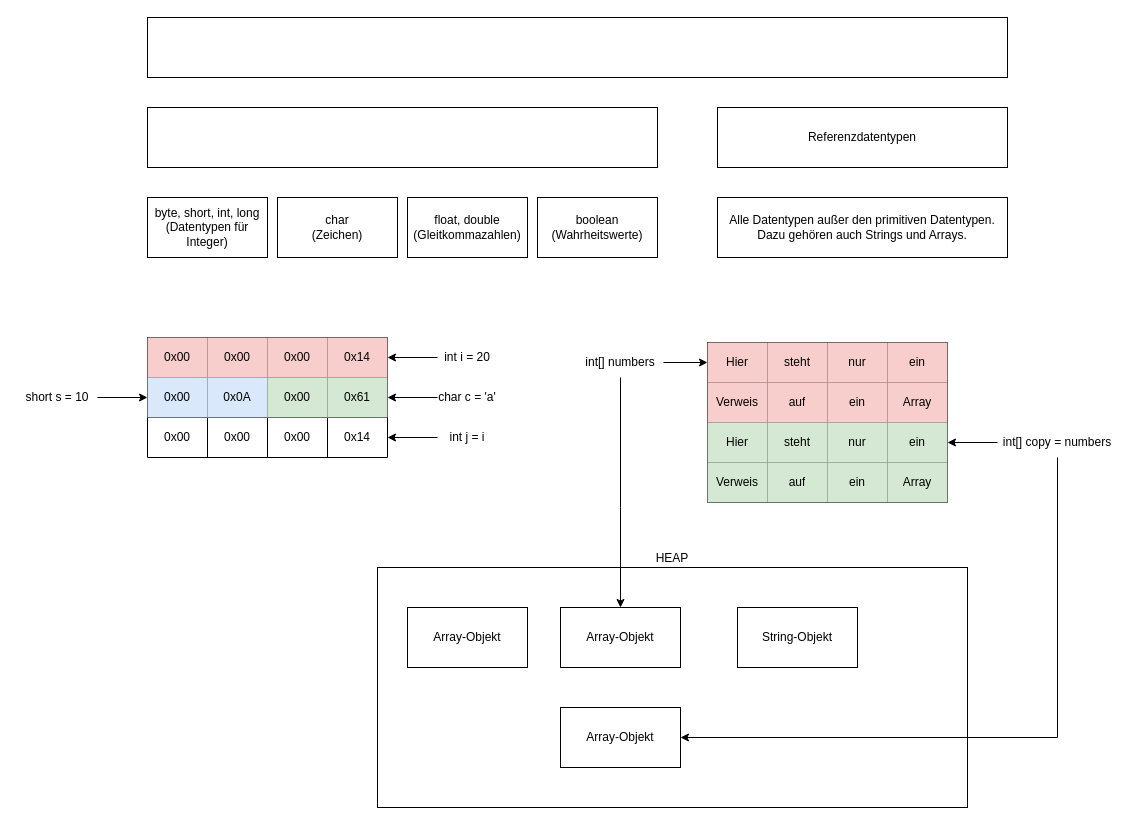
This 1134x825 diagram has some shape labels left out. Here are the shapes that lost their labels. From the top down, the centre of each, then its label:
point (577, 47): Datentypen
point (402, 137): Primitive Datentypen
